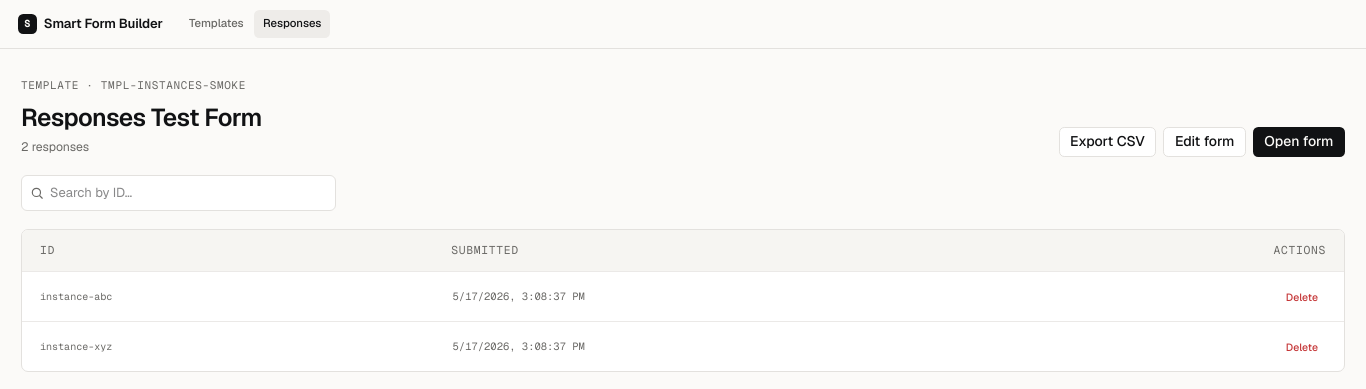
Test: InstancesPage › search › filters responses by instance ID
Type "abc" into the field with placeholder "Search by ID…" at [178, 192], box [21,174,336,210]
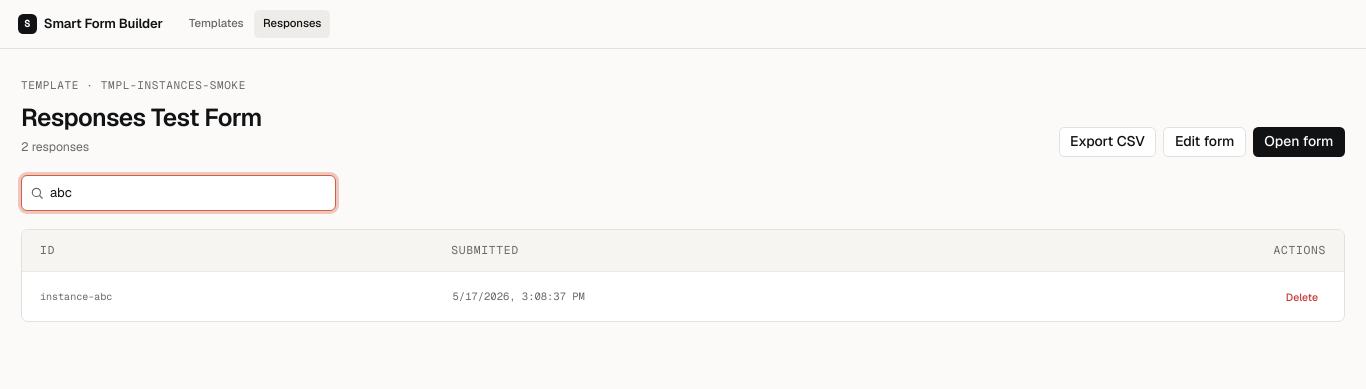
Expected: the text "instance-abc" is shown, [40,290,112,303]
Expected: the text "instance-xyz" is gone
